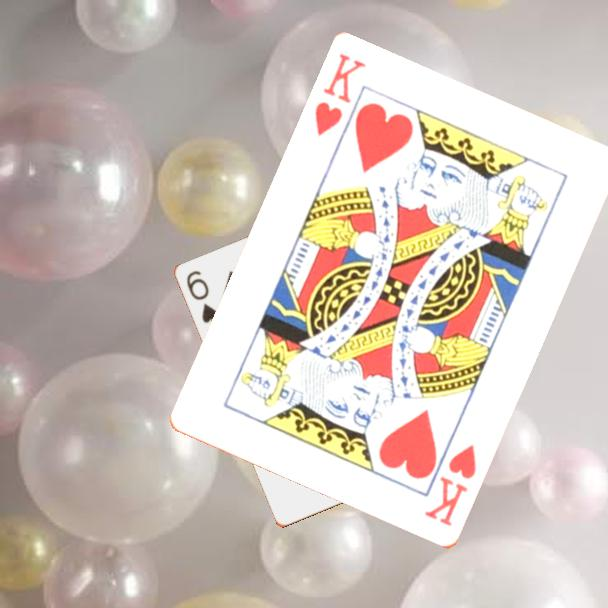h13: (421, 441, 480, 530), (311, 51, 369, 141)
s06: (183, 267, 222, 329)
